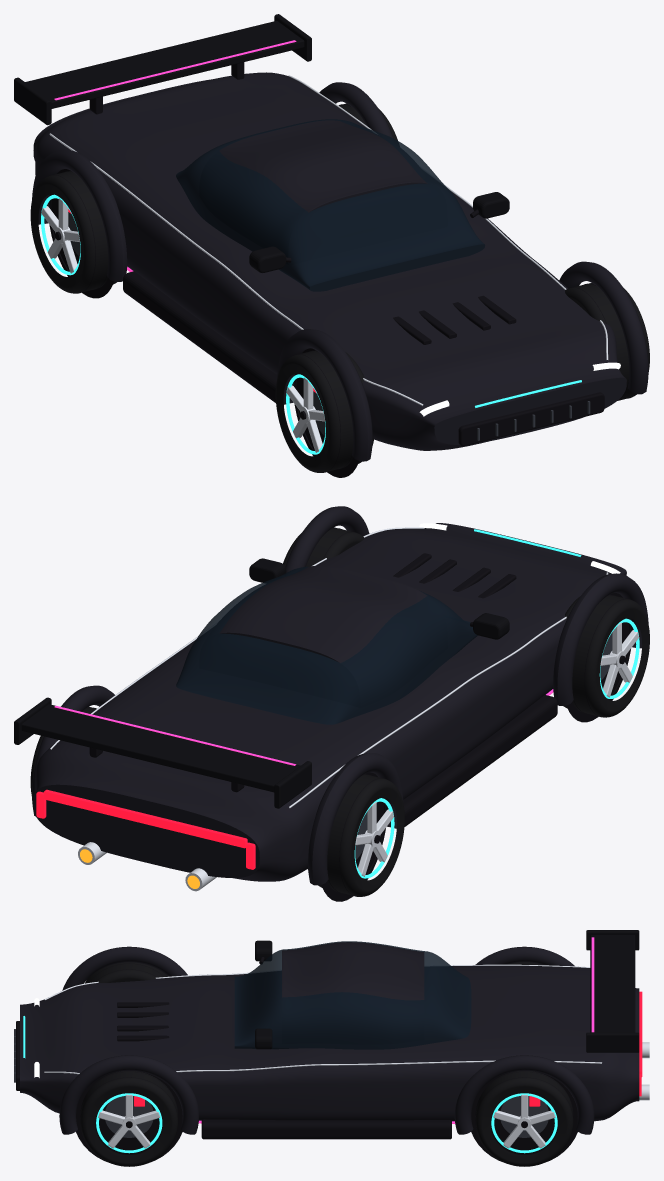
Rendered from ten.glb.
The picture shows the model from 3 angles, top to bottom: view 1: azimuth 30°, elevation 25°; view 2: azimuth 150°, elevation 25°; view 3: azimuth 270°, elevation 25°; orthographic projection. The views are drawn at different scales.
Parts seen in each view (by area): view 1: paint, glass, rubber (×3), paint2, carbon, chrome (×3), neon2; view 2: paint, glass, paint2, rubber (×3), carbon, chrome (×3), light_tail, neon2; view 3: paint, glass, carbon, rubber (×3), paint2, chrome (×3), gunmetal (×2), neon_soft (×2), neon2, light_tail.
Part boxes in pixels (x1,y1,x2,y2): paint: (32, 72, 648, 461); glass: (176, 119, 485, 291); rubber (×3): (30, 171, 649, 472); paint2: (14, 14, 509, 272); carbon: (49, 62, 604, 477); chrome (×3): (41, 75, 608, 452); neon2: (54, 40, 296, 271); paint: (32, 506, 648, 885); glass: (176, 566, 477, 724); paint2: (14, 558, 509, 808); rubber (×3): (283, 527, 649, 896); carbon: (89, 553, 631, 901); chrome (×3): (50, 527, 638, 891); light_tail: (36, 789, 255, 869); neon2: (54, 689, 553, 765); paint: (20, 942, 639, 1134); glass: (234, 941, 471, 1049); carbon: (16, 957, 577, 1162); rubber (×3): (80, 962, 573, 1166); paint2: (255, 930, 639, 1052); chrome (×3): (44, 964, 649, 1148); gunmetal (×2): (105, 1096, 548, 1137); neon_soft (×2): (96, 1093, 557, 1153); neon2: (198, 937, 594, 1123); light_tail: (639, 991, 642, 1096).
Bounding box in the file's own units: 2.27 × 1.27 × 4.83.
